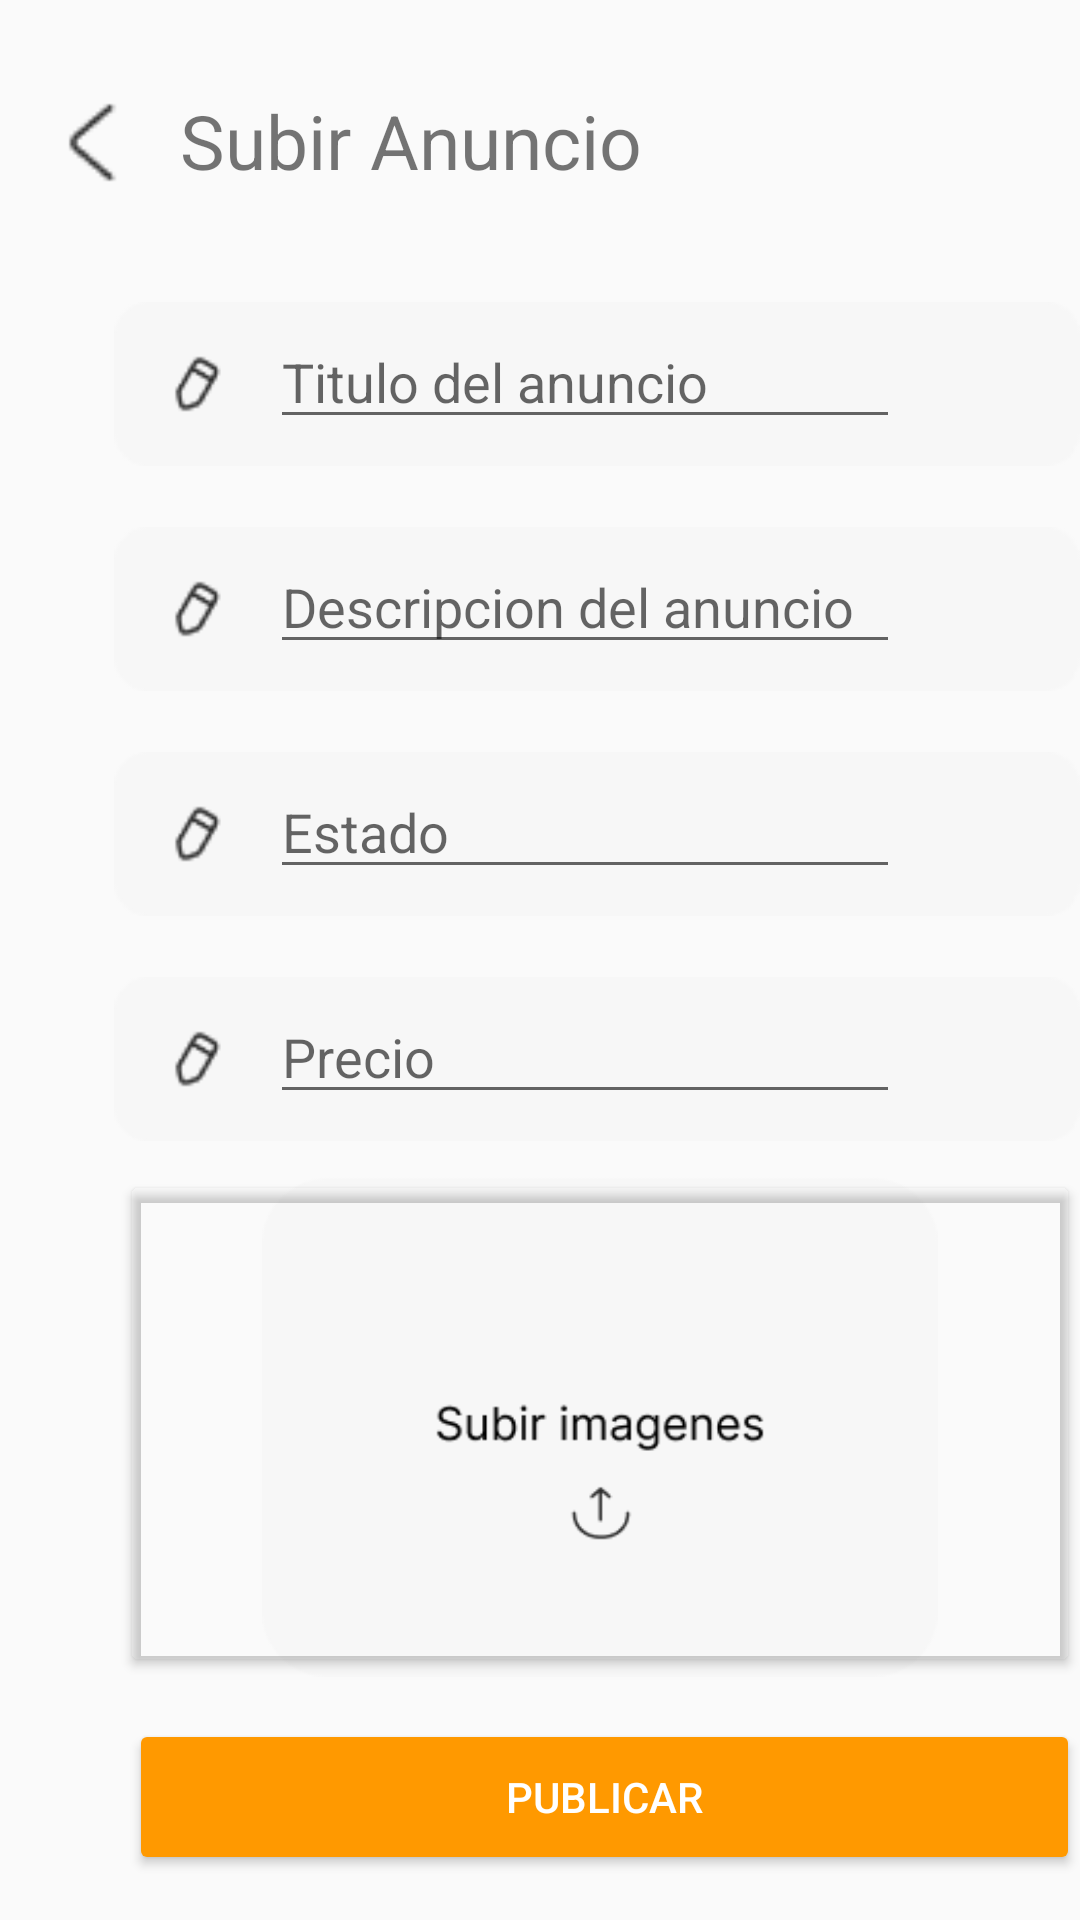

Icon bounding boxes for this 1080w x 1920h phone screenshot, format (x1, y1, x2, y2):
arrows: (69, 104, 115, 181)
